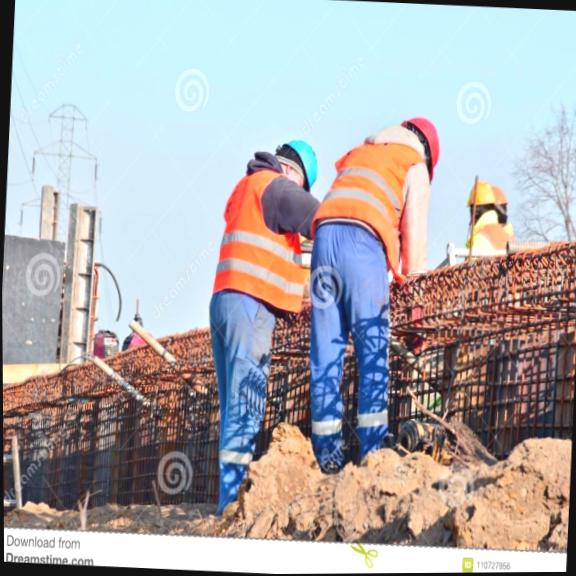safety_vest: (324, 132, 428, 267), (219, 163, 311, 315)
